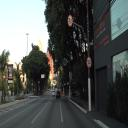NoVirarDireita: (70, 72, 71, 76)
NoVirarEsquerda: (32, 83, 33, 86)
NoVirarU: (26, 82, 27, 85)
speed_limit_50: (86, 56, 92, 70), (68, 14, 73, 28), (38, 81, 40, 84)
